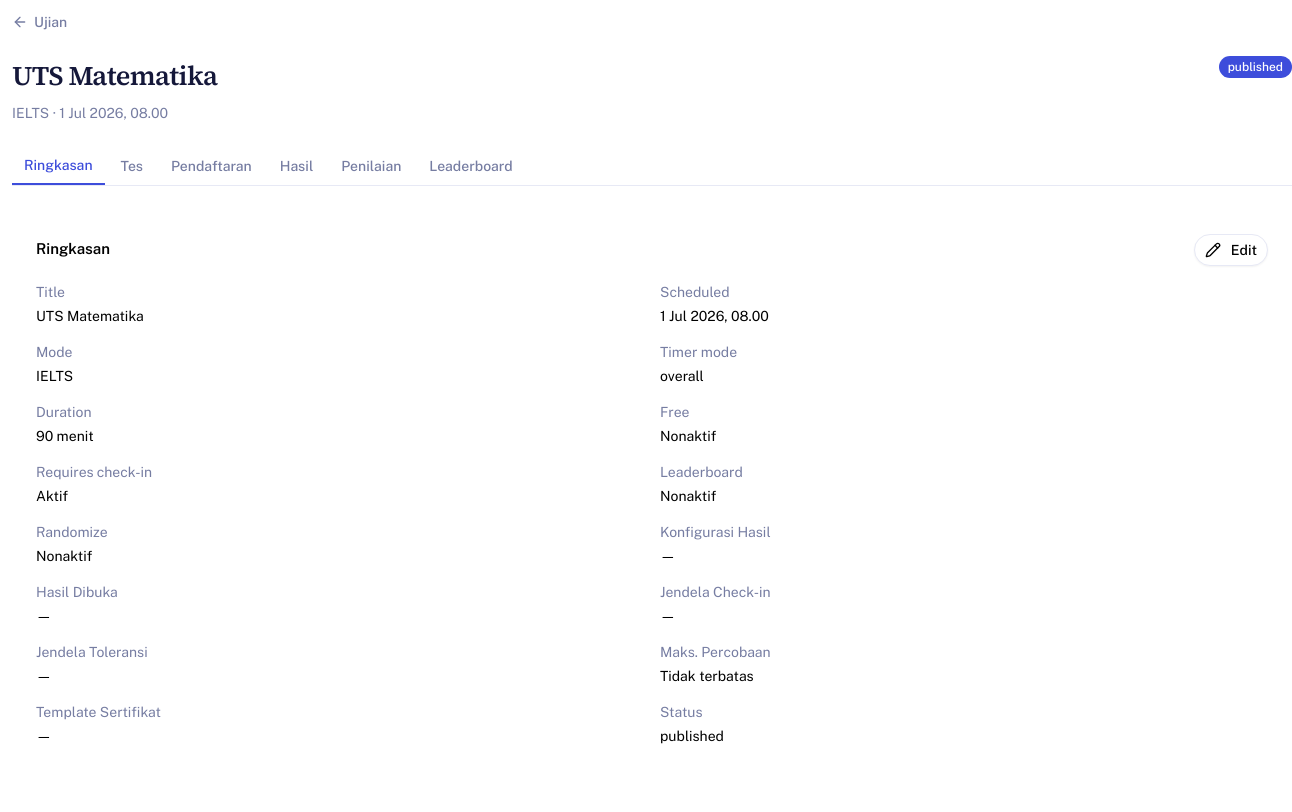
Test case: ExamPackageDetailPage — preset buttons in tests tab › IELTS preset prefills three sections typed listening/reading/writing
Click the button "Tes" at (132, 166), box [108,146,155,184]
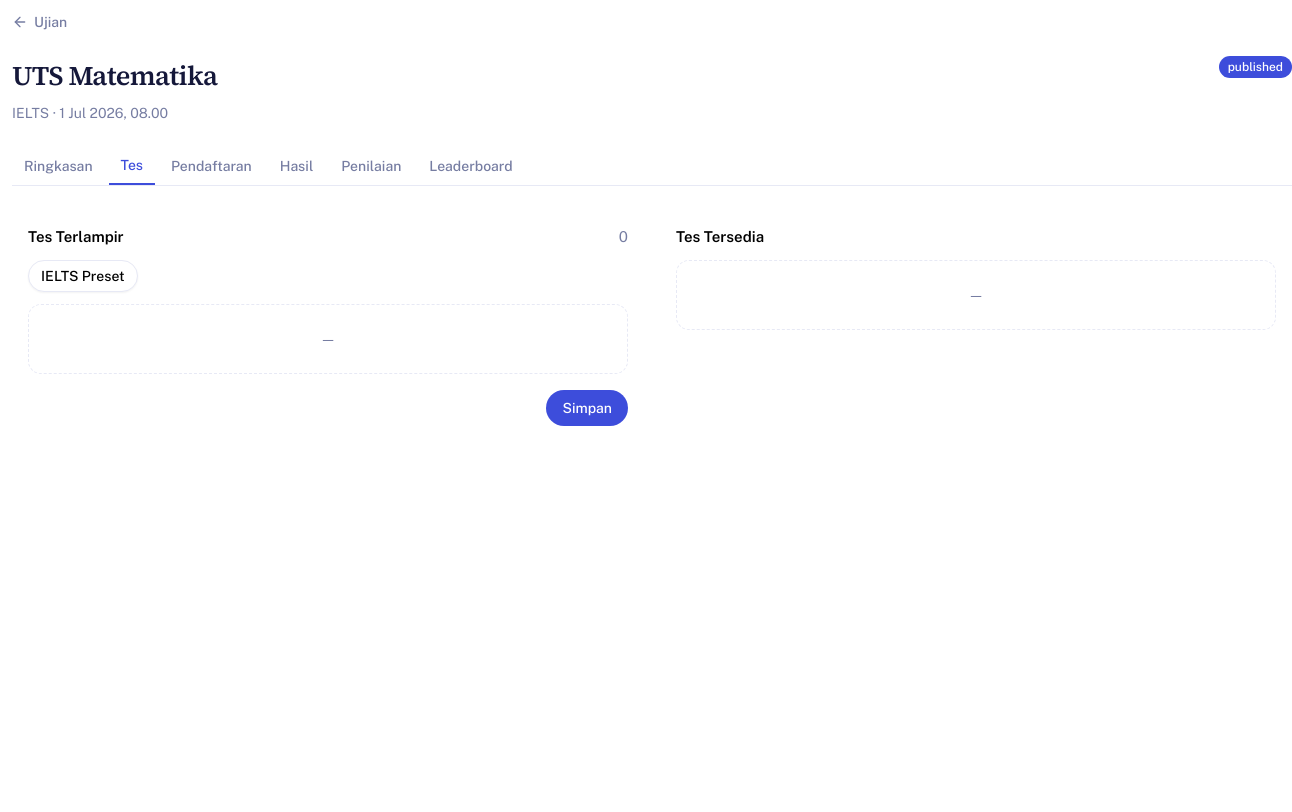
Check: the button "IELTS Preset" is shown
Click the button "IELTS Preset" at (83, 276), box [28,260,138,292]
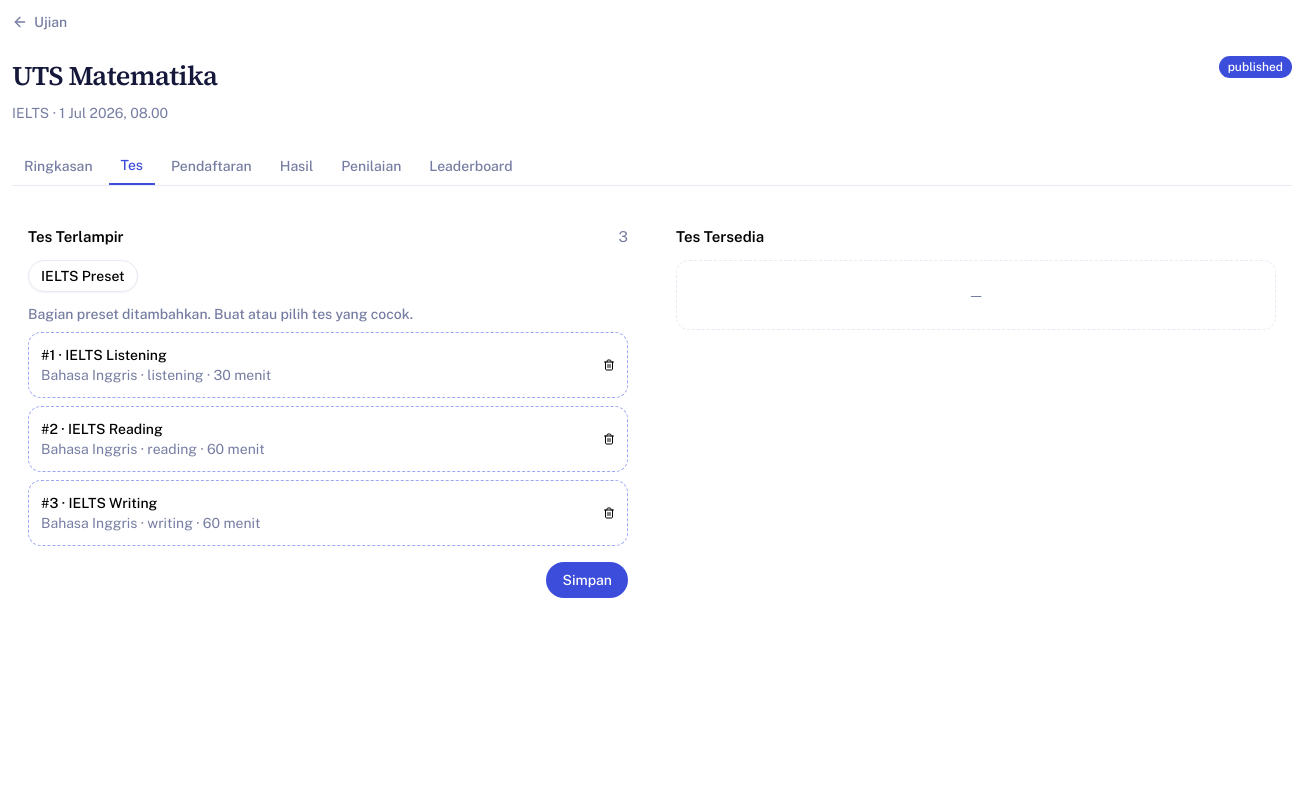
Check: the text "#1 · IELTS Listening" is shown, box [41,347,167,363]
Check: the text "#2 · IELTS Reading" is shown, box [41,421,163,437]
Check: the text "#3 · IELTS Writing" is shown, box [41,495,157,511]
